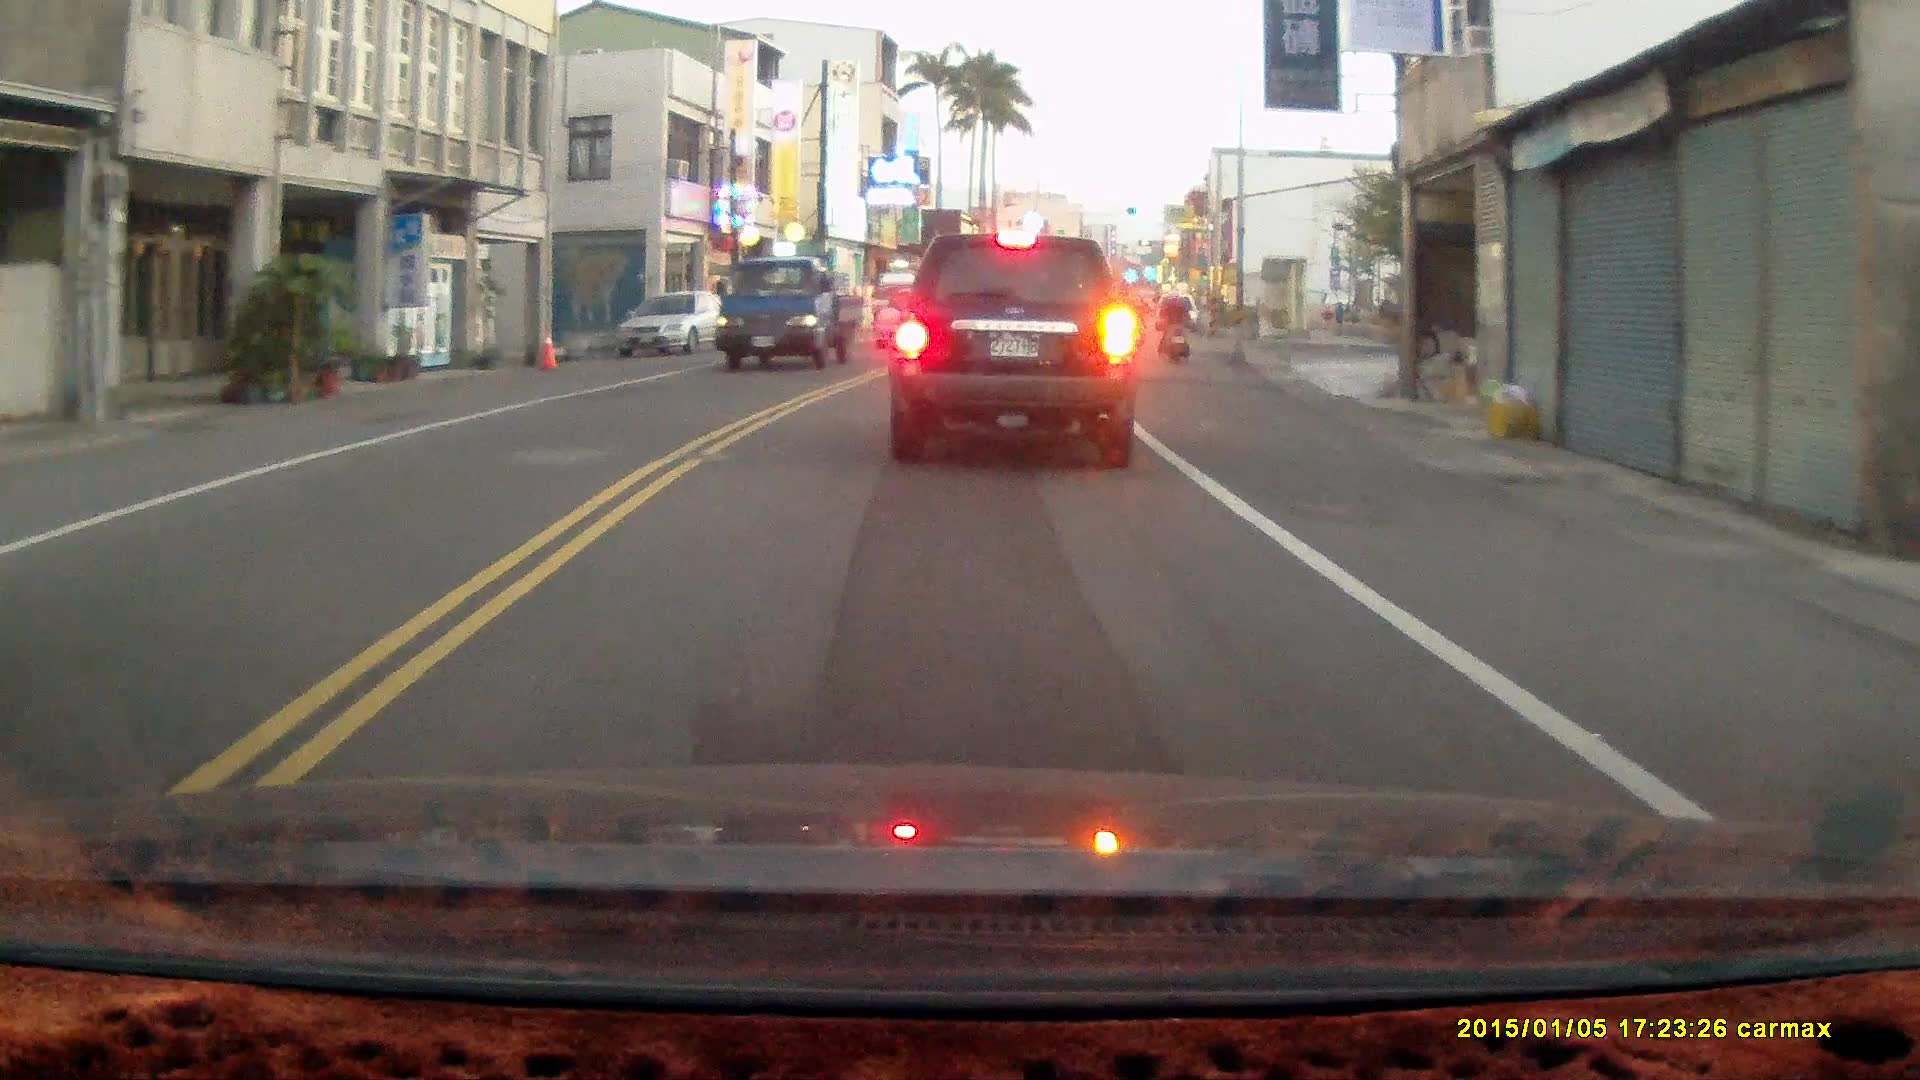rider: (1157, 280, 1188, 361)
vehicle: (887, 227, 1141, 466), (711, 253, 859, 373), (610, 289, 741, 357)
